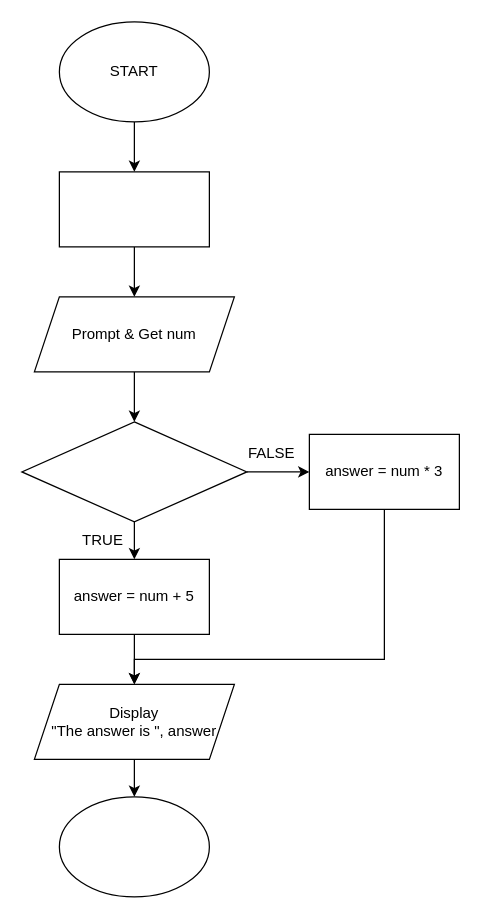
Image size: 481x919. Some labels were removed from this diagram. Each missing label, with the centre of its shape:
"Declare variables num, answer" goes at (x=133, y=209).
"END" goes at (x=133, y=846).
"if num > 10" goes at (x=134, y=471).
